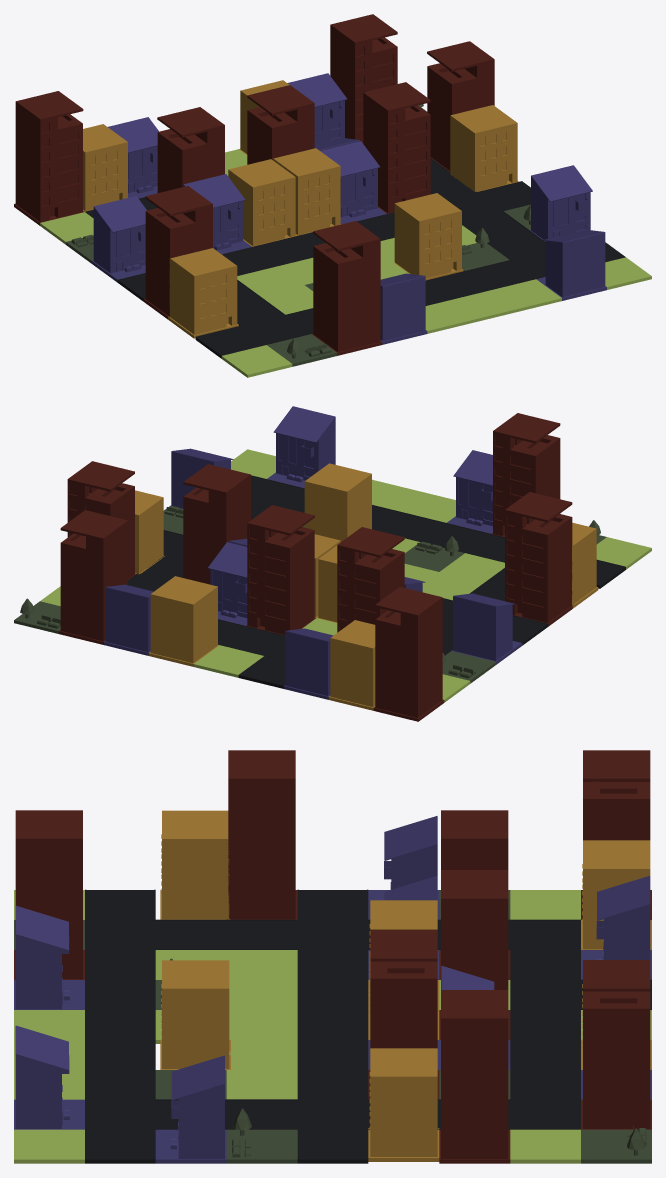
Rendered from map2 72x72.dae.
3 views of the same model, one above another, from view 1: azimuth 30°, elevation 25°; view 2: azimuth 150°, elevation 25°; view 3: azimuth 270°, elevation 25° (orthographic). The views are drawn at different scales.
Parts seen in each view (by area): view 1: Cube.079, Cube.057, Cube.002, Cube.080, Cube.056, Cube.050, Cube.083, Cube.011, Cube.049, Cube.025, Cube.015, Cube.014 (+36 smaller); view 2: Cube.057, Cube.080, Cube.015, Cube.056, Cube.002, Cube.079, Cube.025, Cube.059, Cube.011, Cube.008, Cube.042, Cube.054 (+31 smaller); view 3: Cube.050, Cube.056, Cube.080, Cube.079, Cube.002, Cube.049, Cube.083, Cube.015, Cube.011, Cube.057, Cube.024, Cube.008 (+50 smaller).
Part boxes in pixels (<box>): Cube.079: <box>312,221,382,355</box>; Cube.057: <box>14,91,84,225</box>; Cube.002: <box>363,82,430,213</box>; Cube.080: <box>143,186,212,319</box>; Cube.056: <box>330,14,397,143</box>; Cube.050: <box>427,41,494,171</box>; Cube.083: <box>168,248,238,338</box>; Cube.011: <box>394,193,463,280</box>; Cube.049: <box>450,105,518,191</box>; Cube.025: <box>157,107,224,192</box>; Cube.015: <box>247,85,314,164</box>; Cube.014: <box>228,159,296,246</box>; Cube.057: <box>373,587,444,721</box>; Cube.080: <box>505,492,573,626</box>; Cube.015: <box>246,505,315,635</box>; Cube.056: <box>59,510,127,644</box>; Cube.002: <box>183,464,250,584</box>; Cube.079: <box>492,413,560,536</box>; Cube.025: <box>337,527,404,632</box>; Cube.059: <box>148,576,219,666</box>; Cube.011: <box>304,463,371,541</box>; Cube.008: <box>267,406,335,488</box>; Cube.042: <box>452,593,522,664</box>; Cube.054: <box>328,620,375,710</box>; Cube.050: <box>439,990,510,1163</box>; Cube.056: <box>581,960,651,1129</box>; Cube.080: <box>227,750,297,919</box>; Cube.079: <box>14,810,84,979</box>; Cube.002: <box>368,930,439,1099</box>; Cube.049: <box>368,1048,439,1161</box>; Cube.083: <box>160,810,230,919</box>; Cube.015: <box>439,870,510,1039</box>; Cube.011: <box>160,960,230,1069</box>; Cube.057: <box>581,750,651,919</box>; Cube.024: <box>155,1055,226,1163</box>; Cube.008: <box>14,1025,84,1129</box>.
Bounding box in the file's own units: 144 × 144 × 36.
